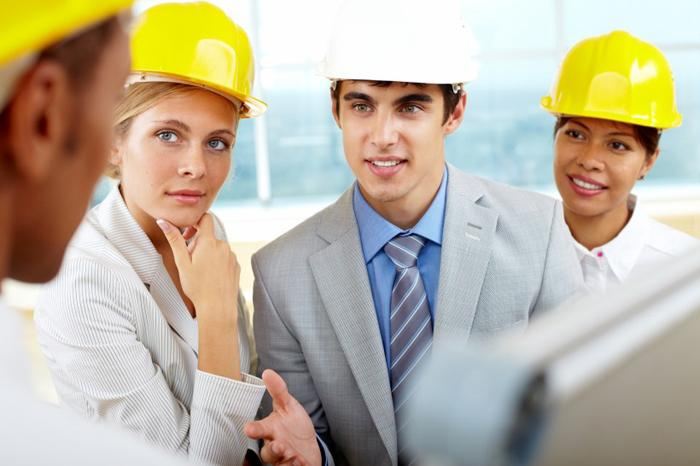helmet: (120, 1, 273, 121), (536, 30, 685, 131), (316, 1, 481, 89)
